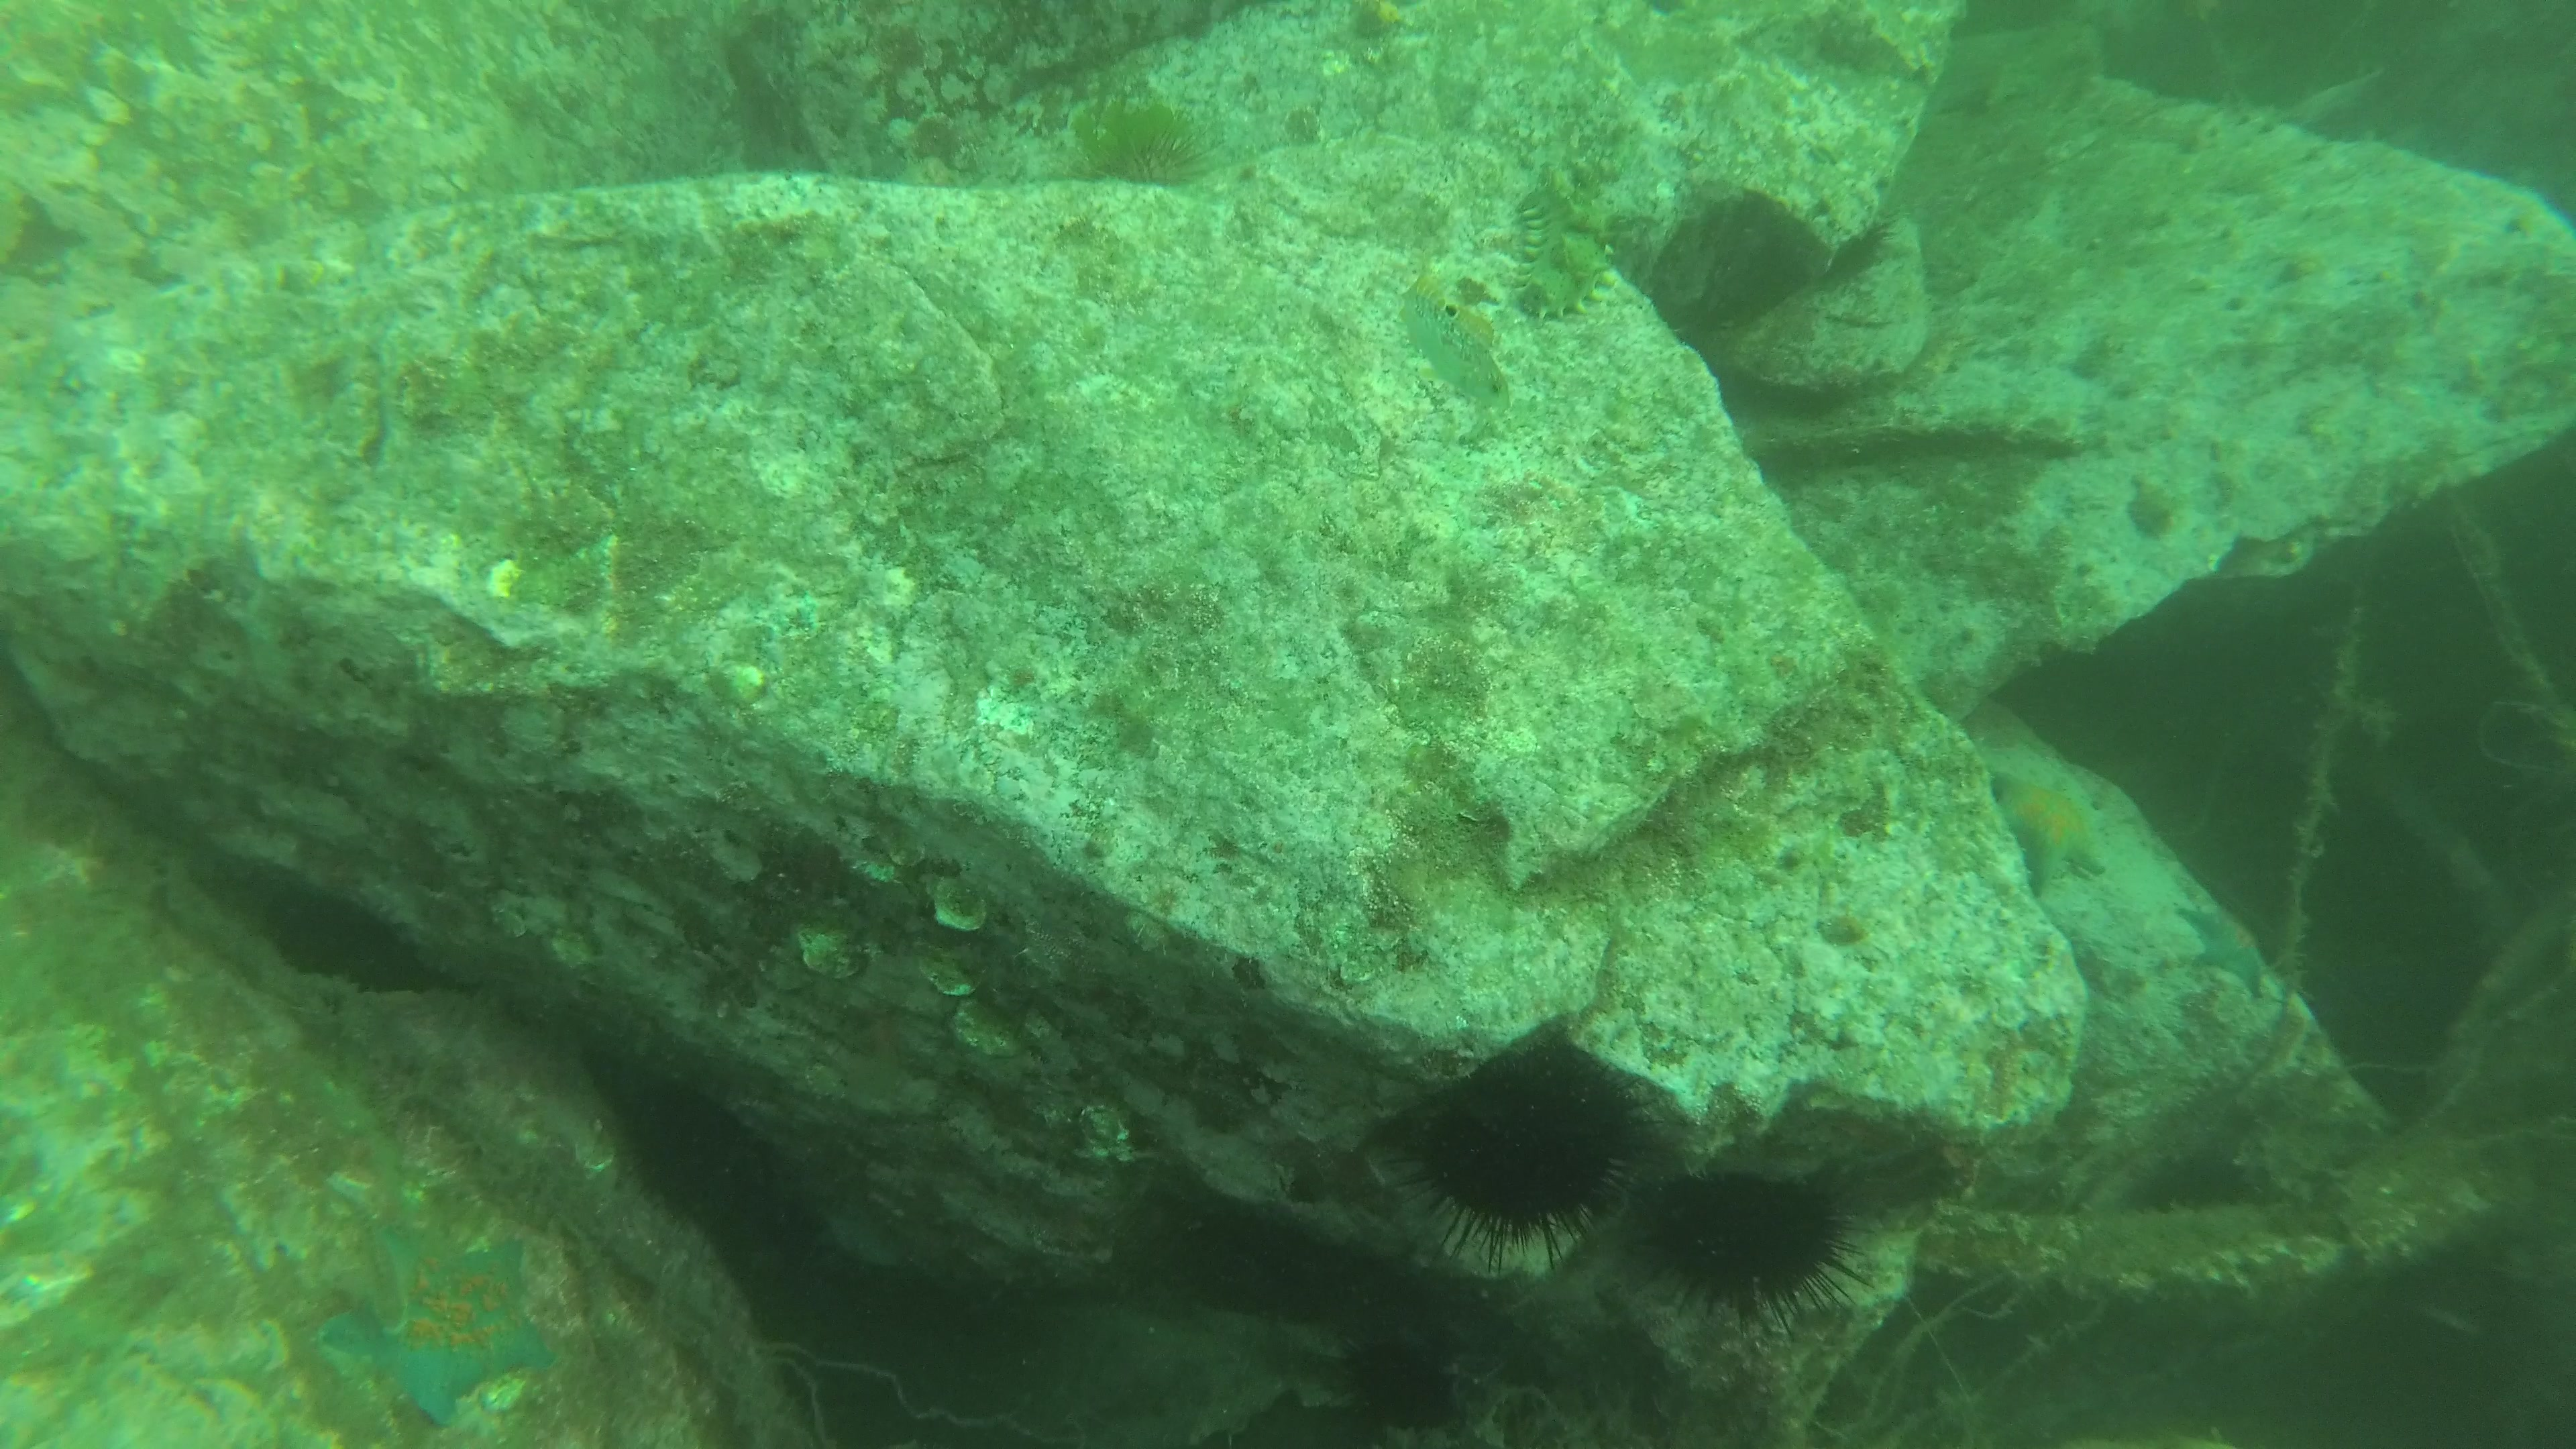echinus: (1403, 1069, 1649, 1270), (1638, 1166, 1875, 1343), (616, 1085, 805, 1253), (265, 890, 432, 996), (1332, 1330, 1456, 1433), (1074, 103, 1214, 193)
holothurian: (1516, 172, 1610, 322)
starfish: (318, 1228, 563, 1426), (1980, 759, 2116, 892), (2171, 897, 2275, 1007)
